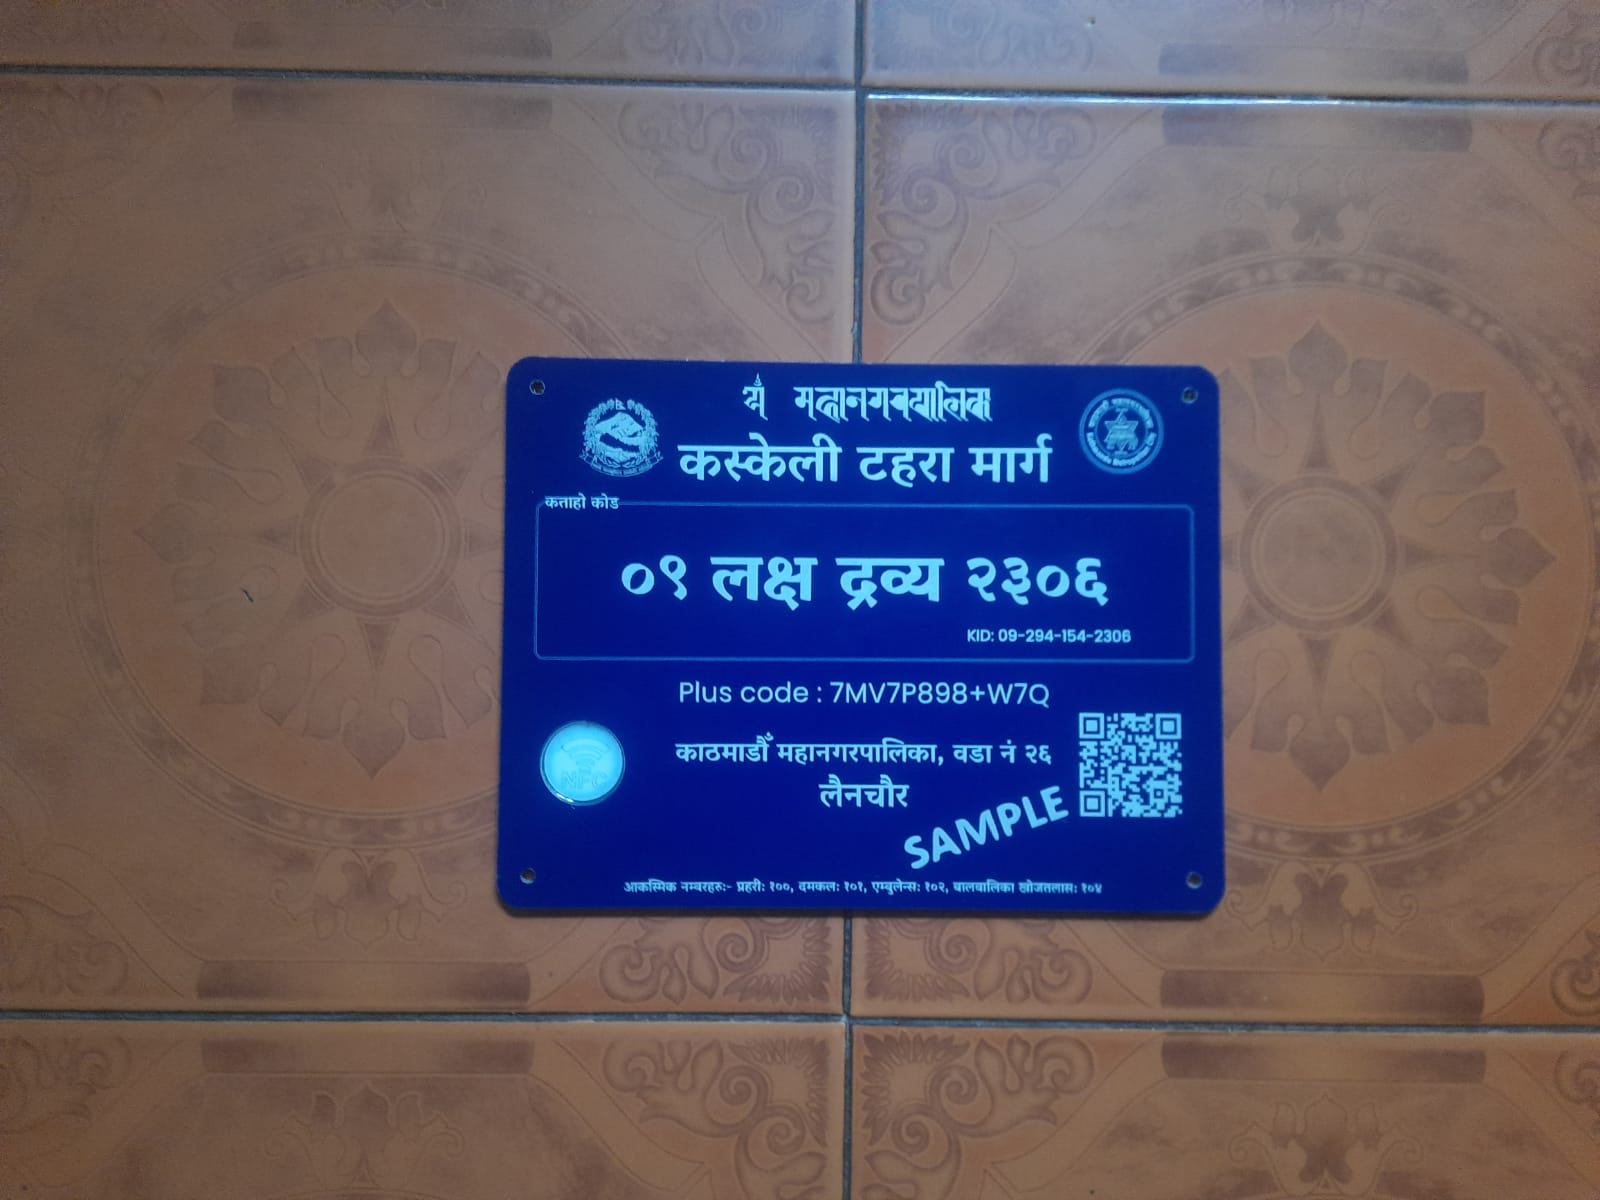Plate: (495, 349, 1232, 925)
